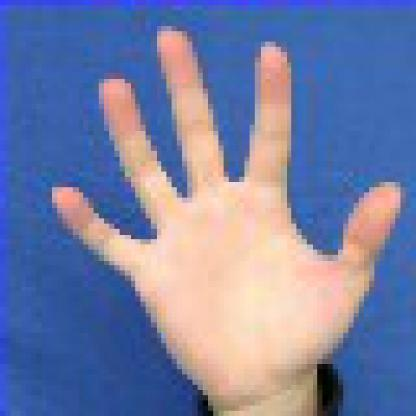five: (48, 18, 415, 415)
